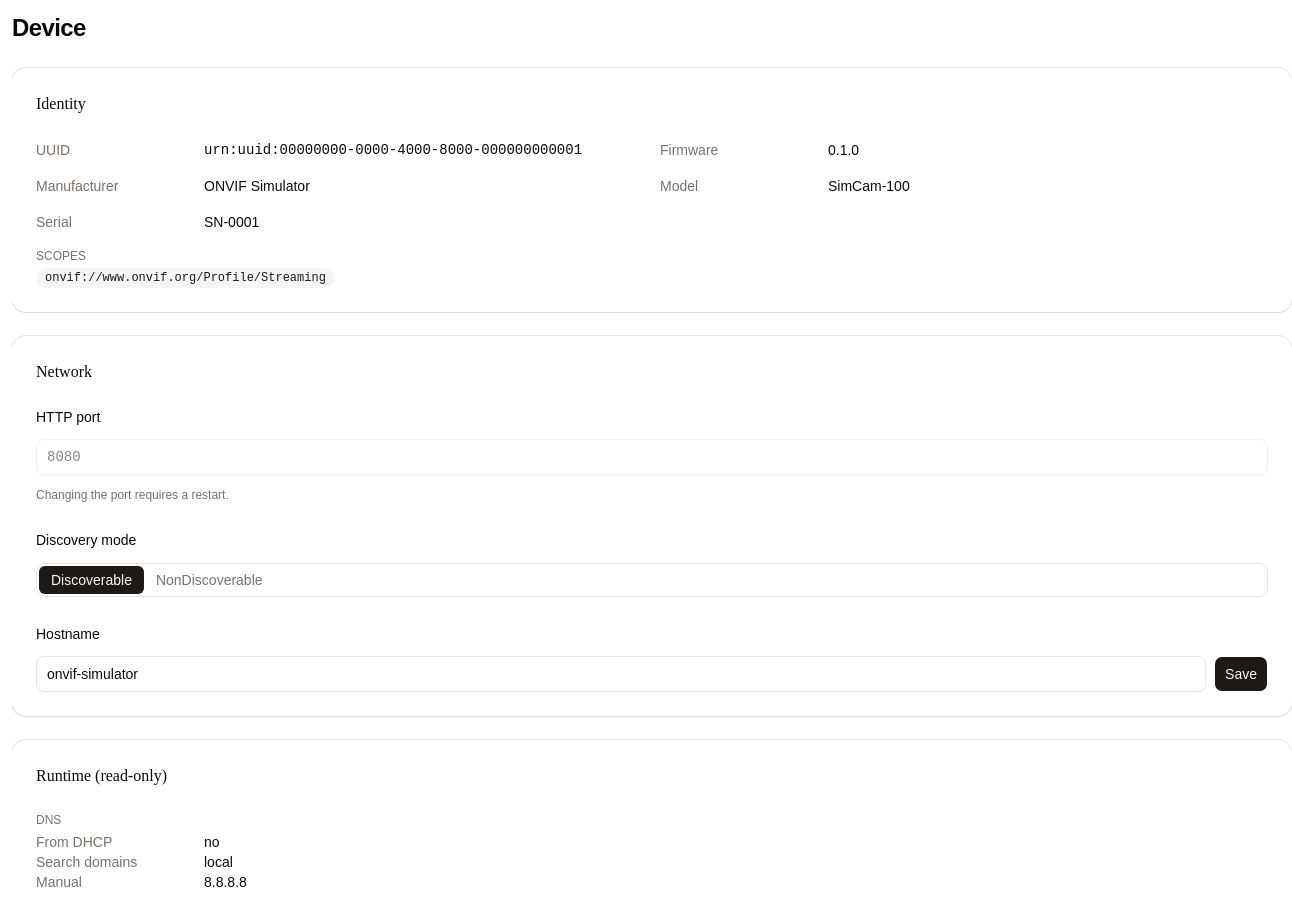
Scenario: Device screen › hostname save surfaces backend error inline
Replace the text in the field showing "onvif-simulator" below "Hostname" with "x" at {"x": 621, "y": 674}, box x1=36 y1=656 x2=1206 y2=692
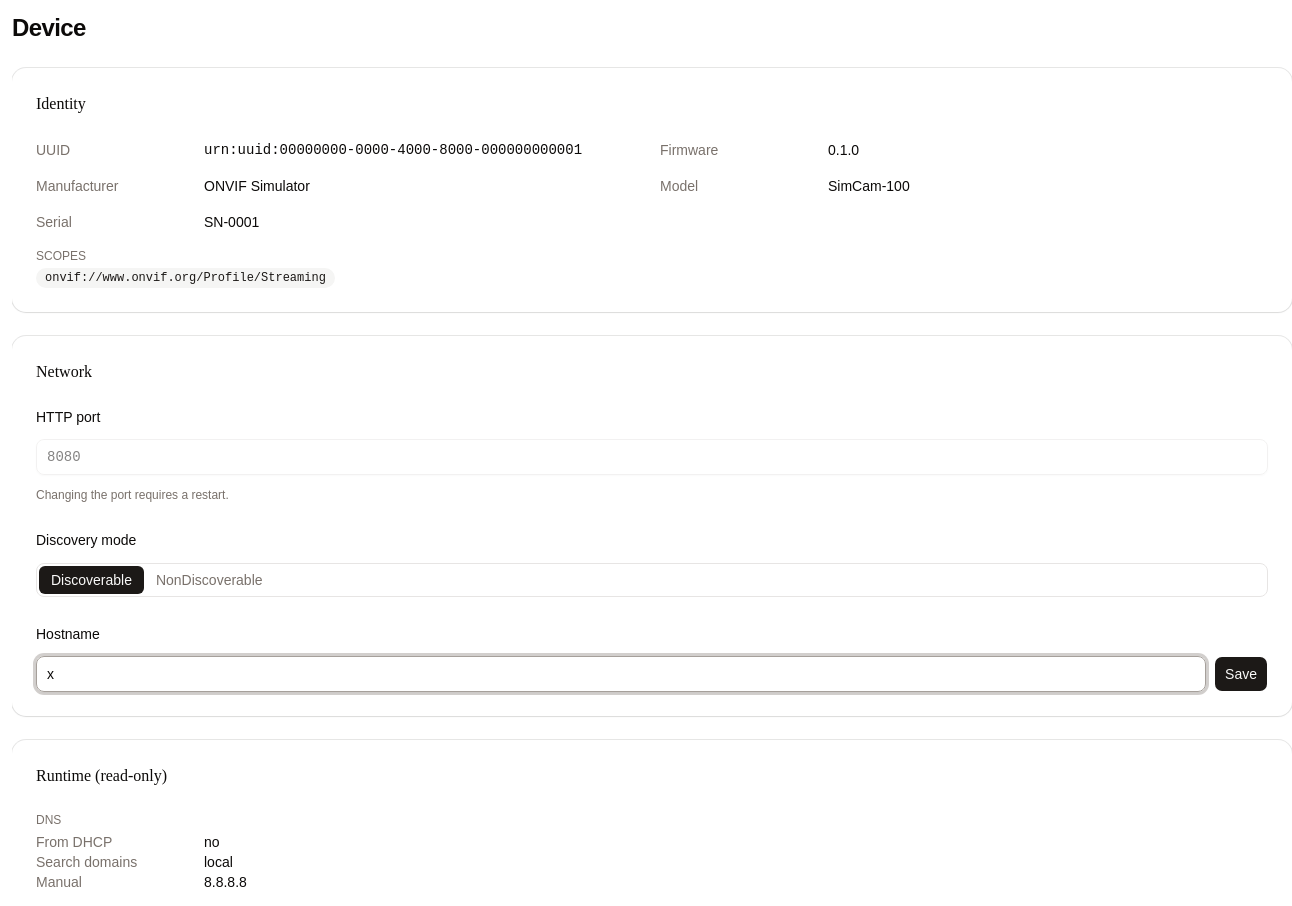
Click the button "Save" at {"x": 1241, "y": 674}, box x1=1214 y1=656 x2=1268 y2=692
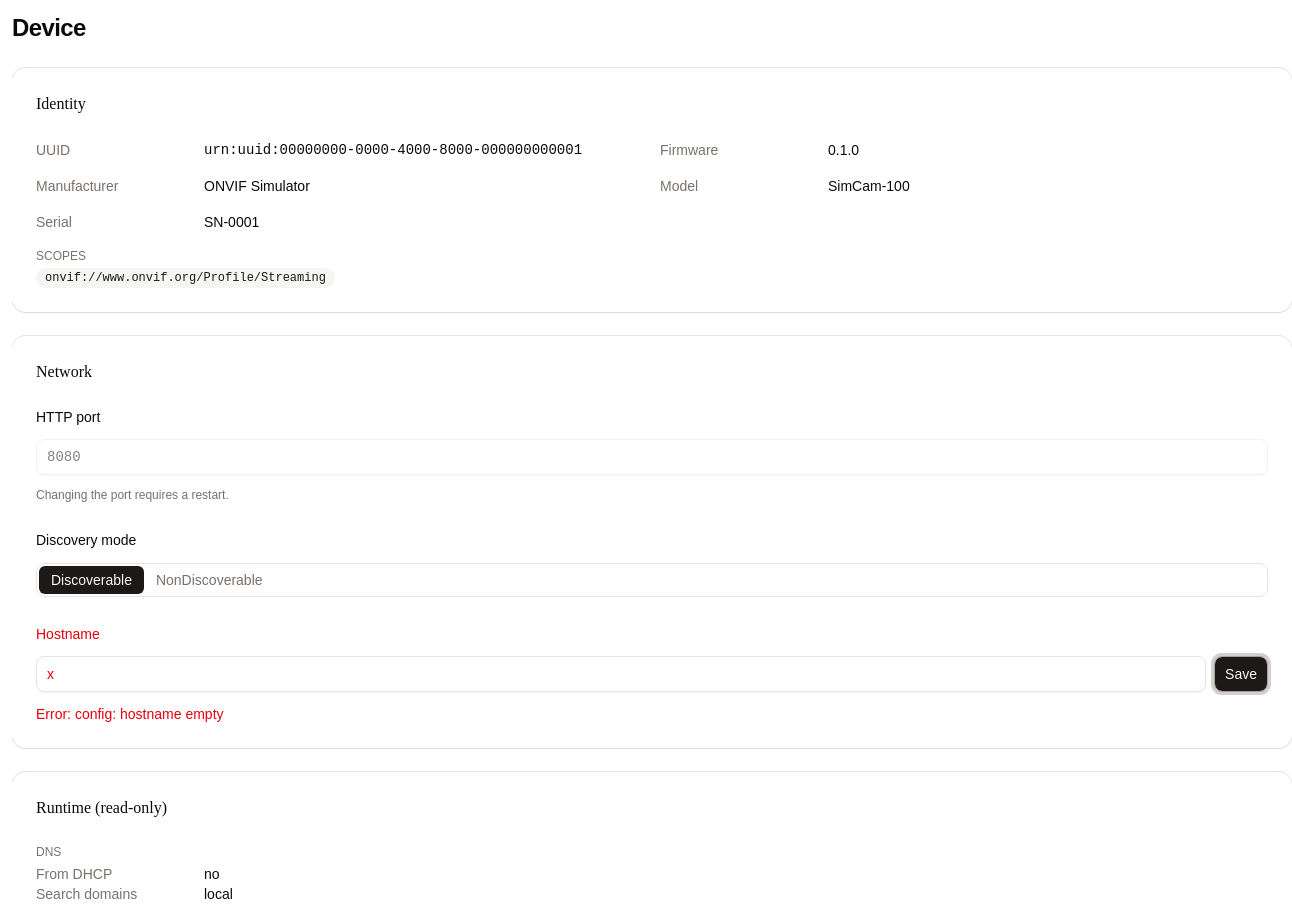
Expected: the text "Error: config: hostname empty" is shown, x1=36 y1=706 x2=224 y2=722
